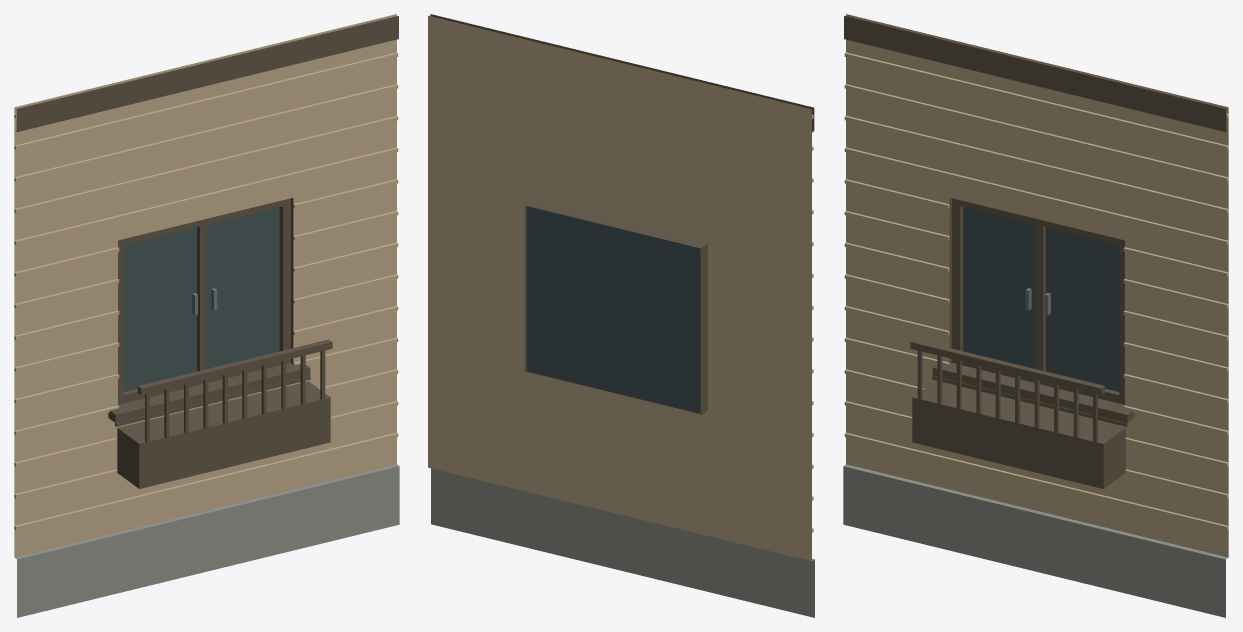
The model's file is base-w1_close.fbx.
The picture shows the model from 3 angles, left to right: view 1: azimuth 30°, elevation 25°; view 2: azimuth 150°, elevation 25°; view 3: azimuth 330°, elevation 25°; orthographic projection.
Visible parts, largest first — view 1: a2015/0/base-w1_close; view 2: a2015/0/base-w1_close; view 3: a2015/0/base-w1_close.
Part boxes in pixels (x1,y1,x2,y2): a2015/0/base-w1_close: (14, 14, 399, 617); a2015/0/base-w1_close: (428, 14, 814, 617); a2015/0/base-w1_close: (843, 14, 1228, 617).
Bounding box in the file's own units: 2.4 × 3.05 × 0.42.
